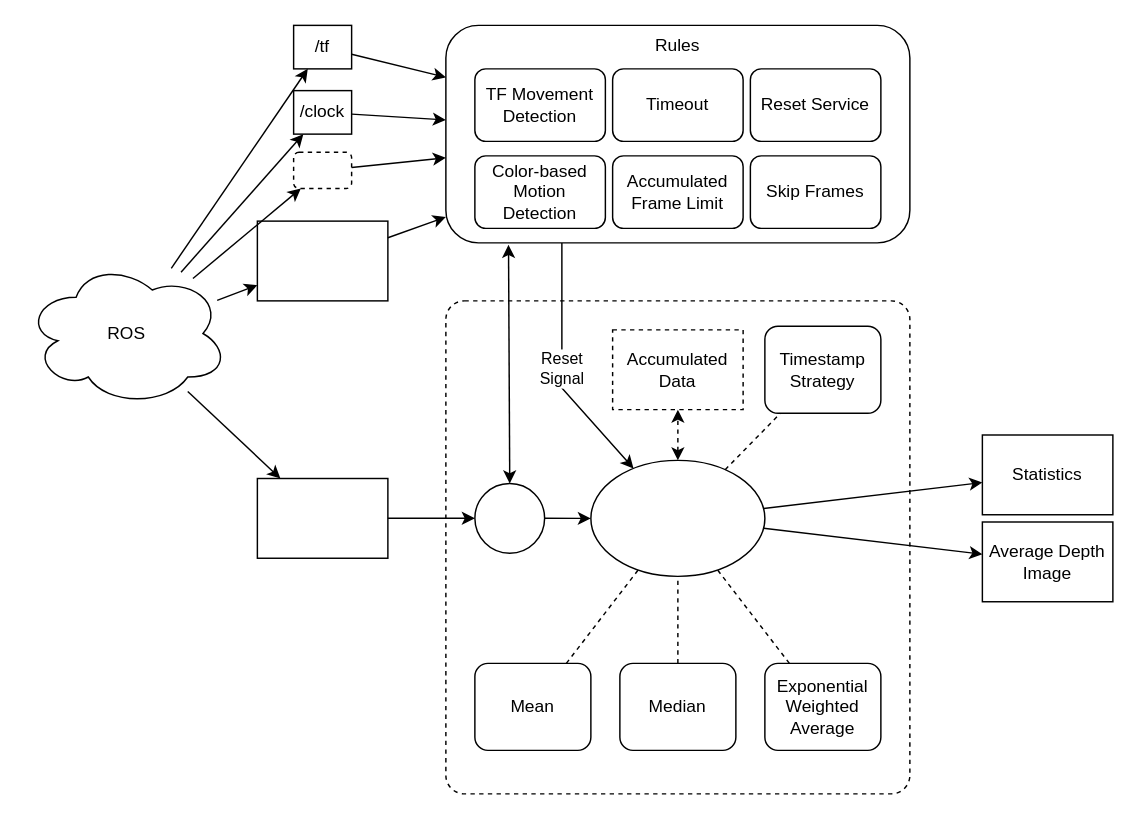
Some shapes in this 1138 by 819 pixel diagram are drawn without their labels. The centre of each missing label's shape, as x and y in pixels:
"/reset" belongs at [322,169].
"Check Rules" belongs at [509,517].
"Color Image" belongs at [322,260].
"Depth Image" belongs at [322,517].
"Pixel-wise Averaging" belongs at [677,517].
